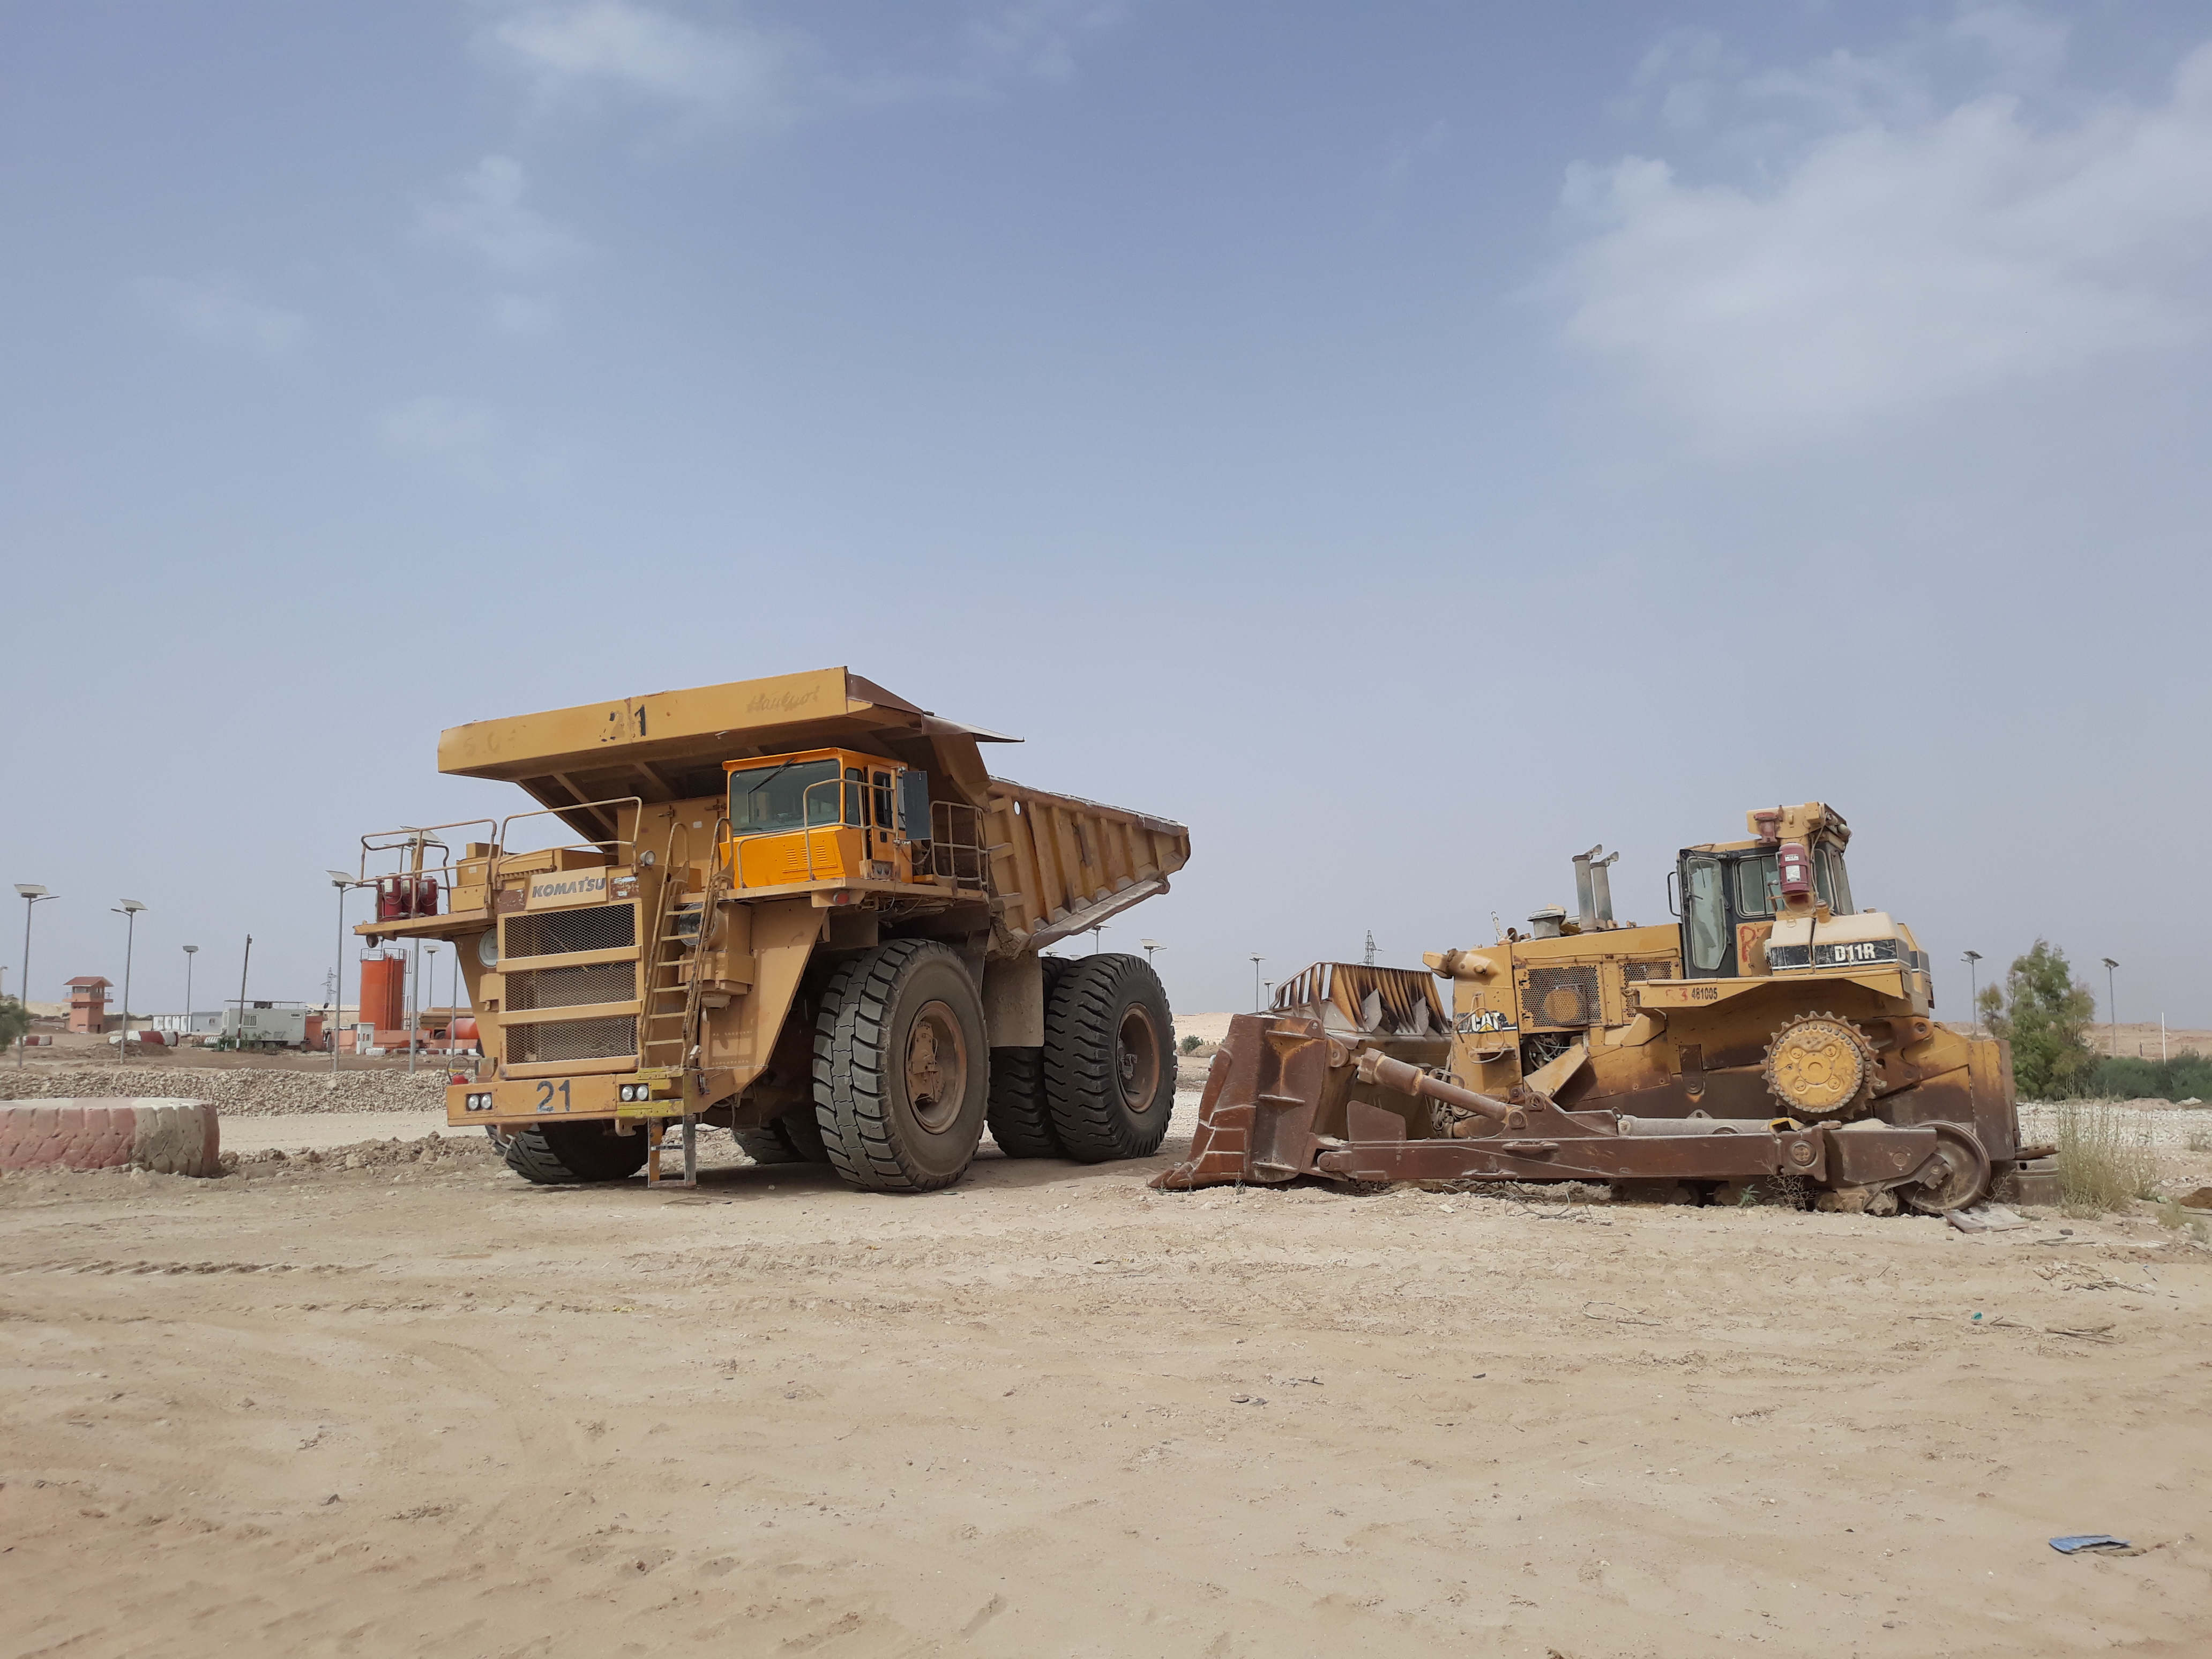bulldozer: (1170, 791, 2031, 1258)
camion: (397, 680, 1204, 1244)
